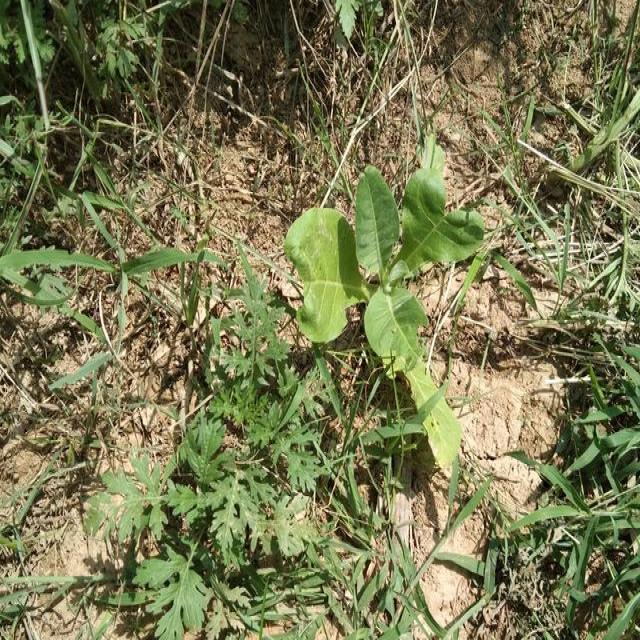crop: (287, 196, 490, 487)
